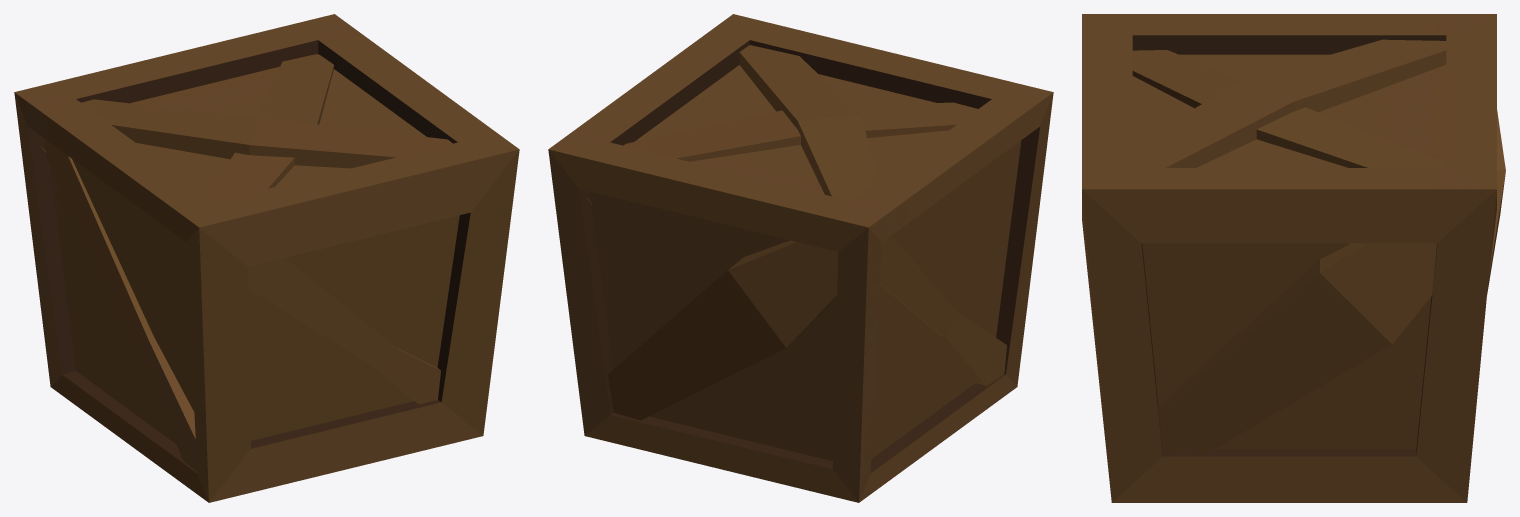
File: Caixa1.fbx
The picture shows the model from 3 angles, left to right: view 1: azimuth 30°, elevation 25°; view 2: azimuth 150°, elevation 25°; view 3: azimuth 270°, elevation 25°; orthographic projection. The views are drawn at different scales.
Visible parts, largest first — view 1: Caixa1; view 2: Caixa1; view 3: Caixa1.
Boxes of the visible parts, x1,y1,x2,y2 form: Caixa1: (14, 14, 519, 502); Caixa1: (548, 14, 1053, 502); Caixa1: (1082, 14, 1505, 502).
Bounding box in the file's own units: 107 × 91.75 × 108.
